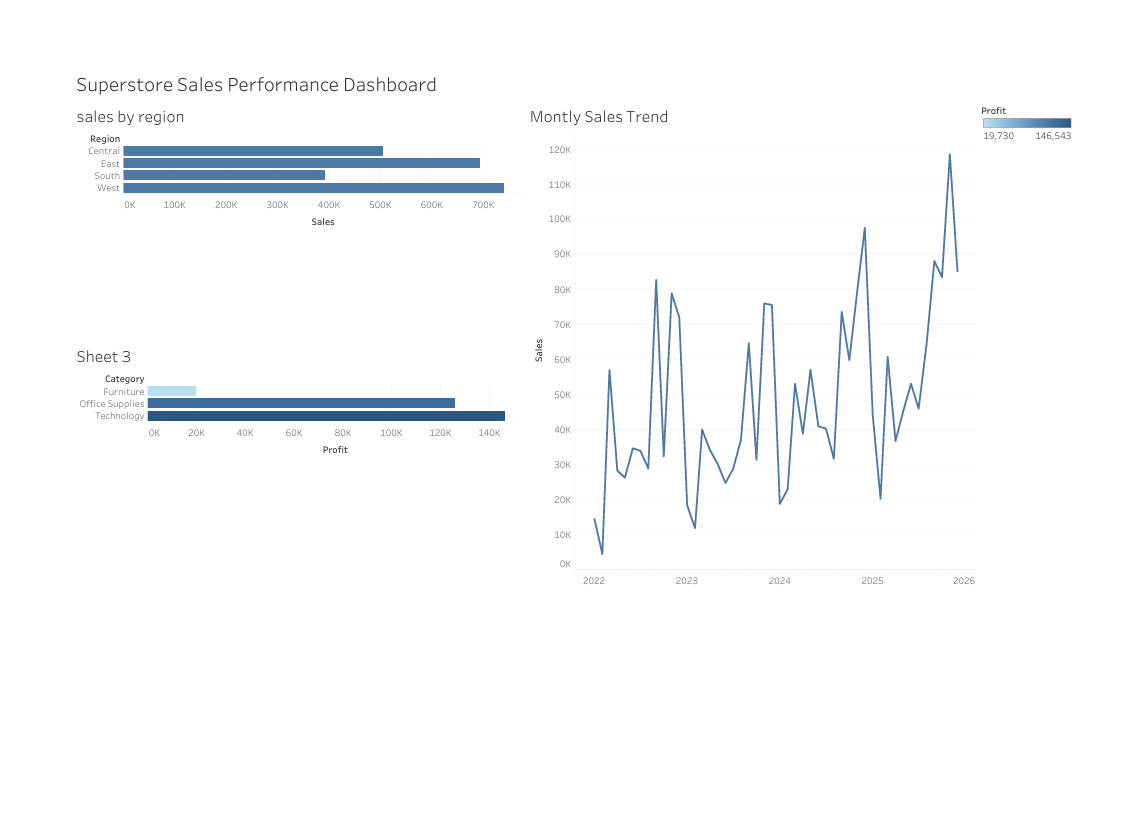

What the dashboard file says about the page in this screenshot:
{"tool":"tableau","page":{"name":"Final Dashboard","canvas":[1000,1000],"units":"permille","ordinal":0},"visuals":[{"type":"title","box":[4.8,9.4,990.3,58.8]},{"type":"worksheet","title":"Sheet 1","mark":"Automatic","rows":["Region"],"cols":["Sales"],"box":[4.8,68.2,446.9,461.2]},{"type":"worksheet","title":"Sheet 2","mark":"Automatic","rows":["Sales"],"cols":["Order Date"],"box":[451.7,68.2,446.9,922.5]},{"type":"legend","title":"Sheet 3","param":"[Sample - Superstore].[sum:Profit:qk]","box":[898.6,68.2,96.6,85.8]},{"type":"worksheet","title":"Sheet 3","mark":"Automatic","rows":["Category"],"cols":["Profit"],"box":[4.8,529.4,446.9,461.2]}]}

Visuals, with their boxes on the dashboard's canvas, which has no fixed pixel size, in thousandths of its width and height (x1, y1, x2, y2). These are canvas units, not pixel positions in the 1135x822 screenshot, which may show the page scaled, cropped or inside an application window:
title: Rect(5, 9, 995, 68)
"Sheet 1" worksheet: Rect(5, 68, 452, 529)
"Sheet 2" worksheet: Rect(452, 68, 899, 991)
"Sheet 3" legend: Rect(899, 68, 995, 154)
"Sheet 3" worksheet: Rect(5, 529, 452, 991)
